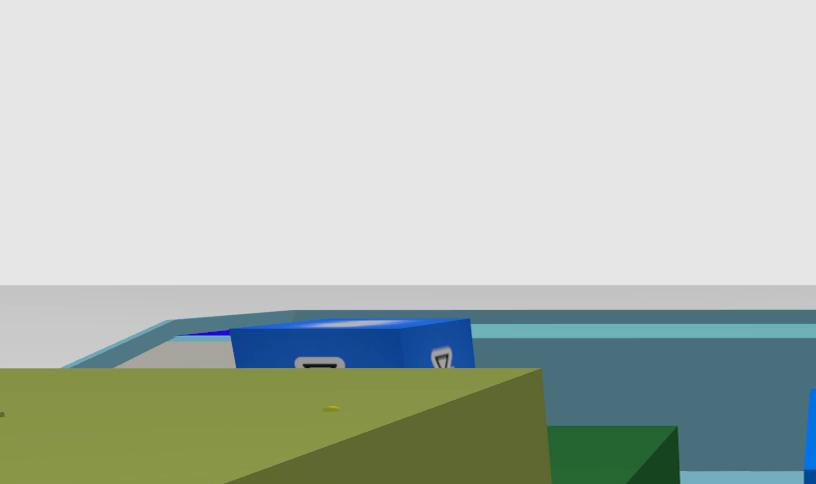KFS_REAL: (228, 317, 475, 368), (803, 388, 816, 484)
